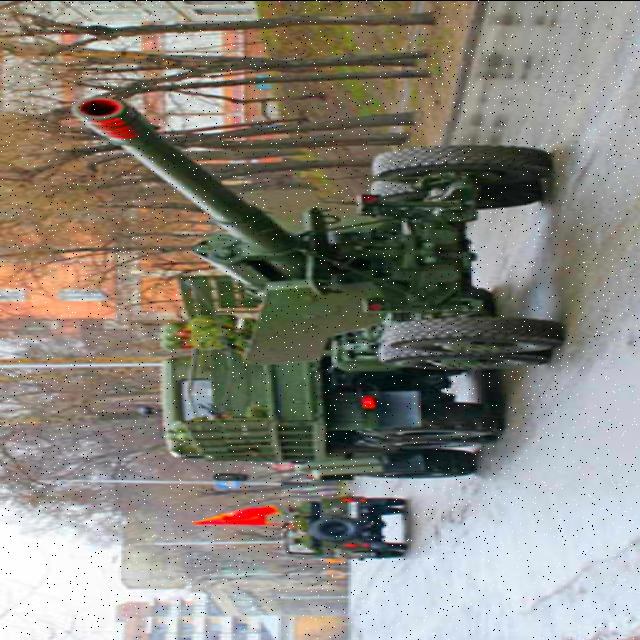ART: (72, 96, 556, 368)
CAR: (278, 495, 410, 563)
TRUCK: (154, 271, 508, 475)
